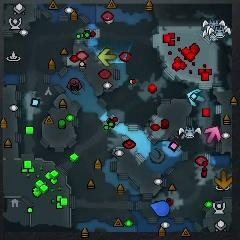p1: (150, 199, 171, 218)
x1: (205, 124, 222, 144)
x2: (98, 48, 119, 68)
x3: (186, 87, 206, 108)
x5: (213, 170, 233, 190)
